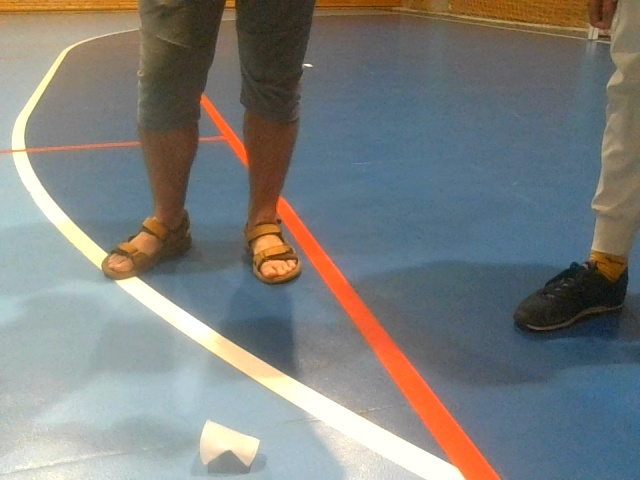plasticcup: (198, 418, 261, 466)
